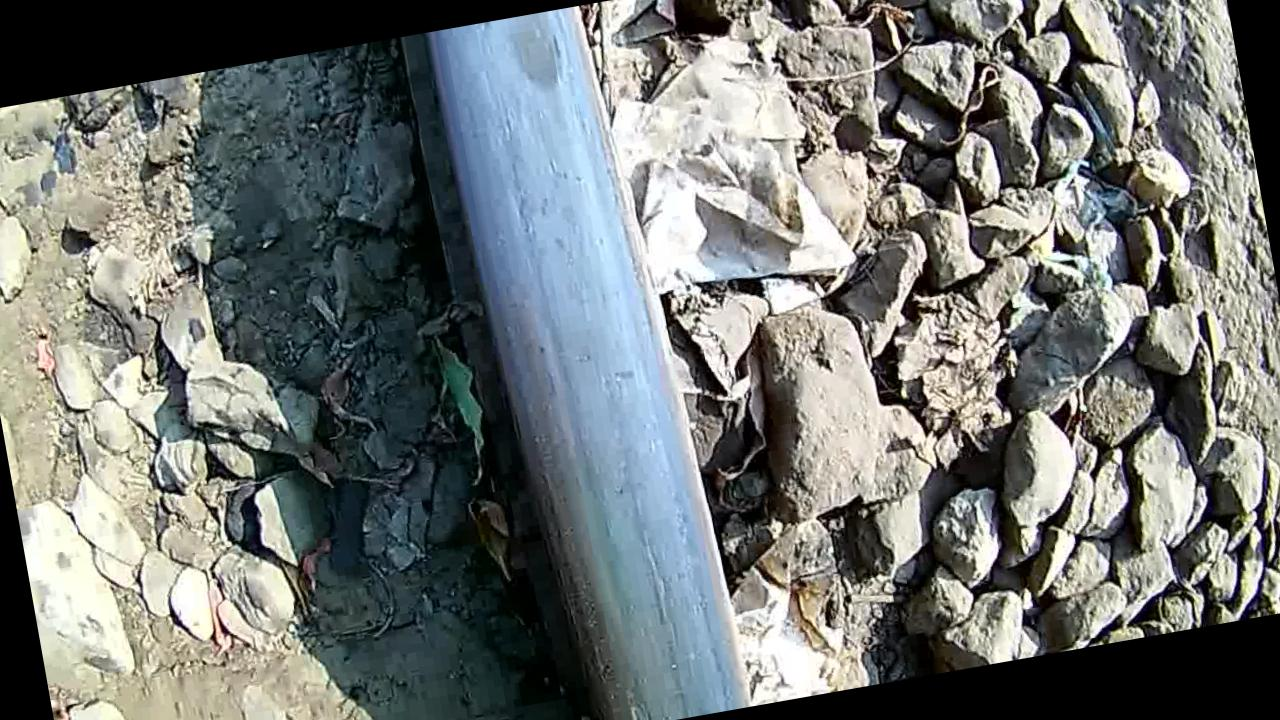bolt_missing: (477, 3, 607, 120)
